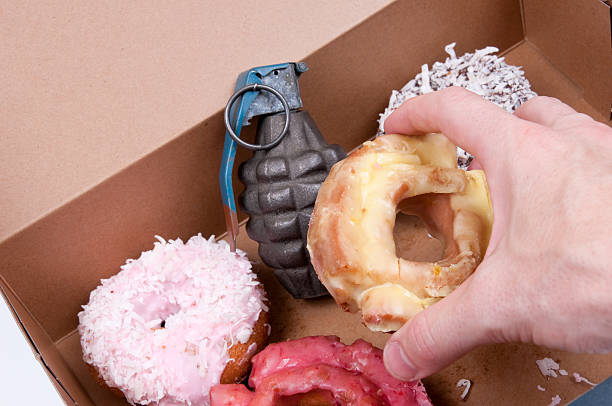e1: (223, 58, 343, 309)
